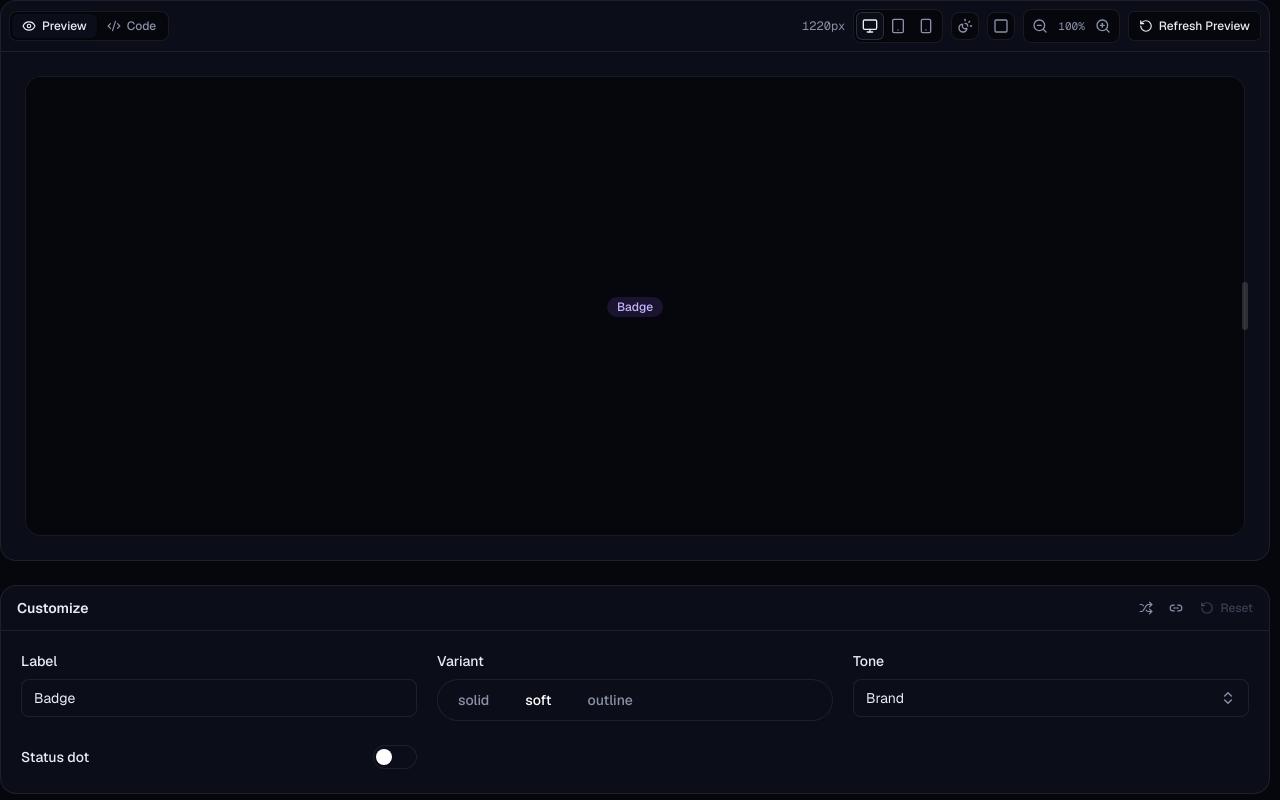
Scenario: ComponentPlayground — stage tools › zooms in preset steps and resets to 100%
Expected: the button "100%" is shown, x1=1054 y1=18 x2=1089 y2=34
What coordinates should you click on to do the following:
click the button named "Zoom in"
I would click on:
 (1103, 26)
Its box is x1=1089 y1=12 x2=1117 y2=40.
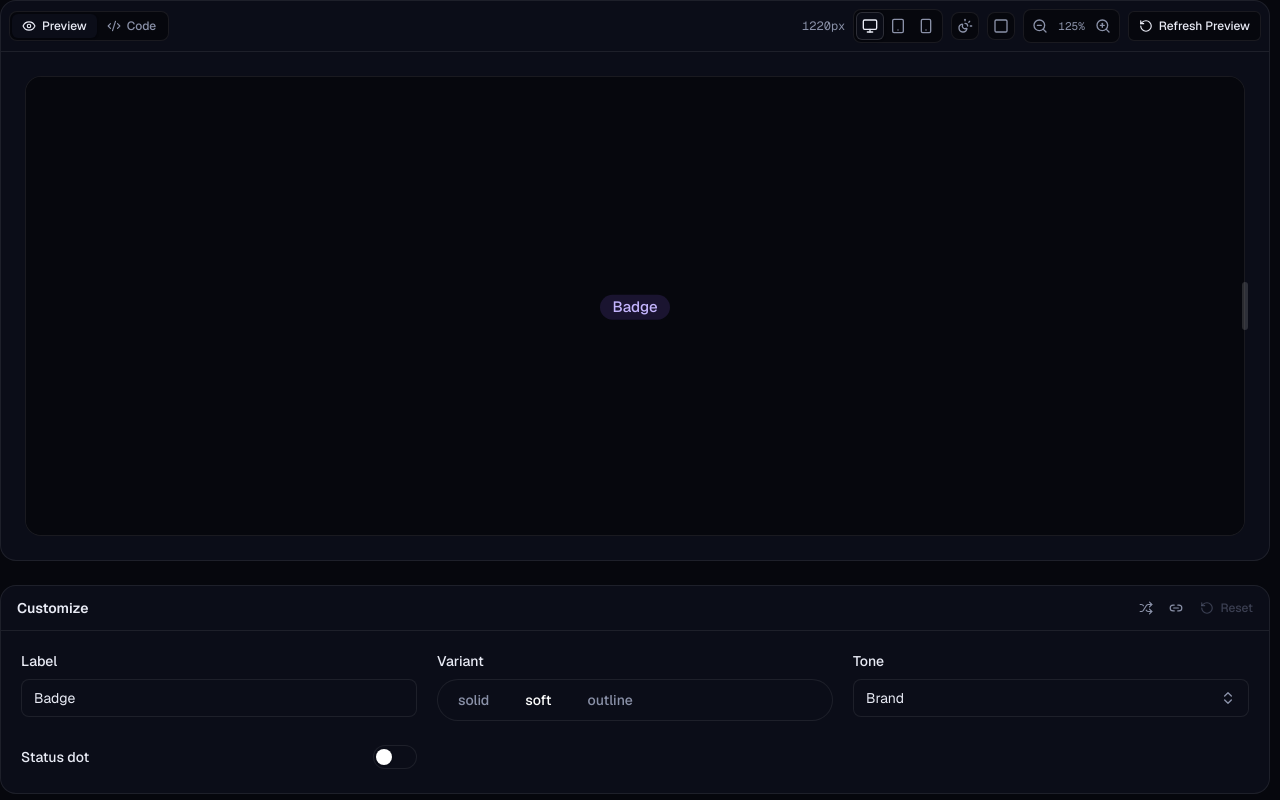
Now the button "125%" is shown
What coordinates should you click on to do the following:
click the button named "Reset zoom"
I would click on:
 (1072, 26)
Its box is x1=1054 y1=18 x2=1089 y2=34.
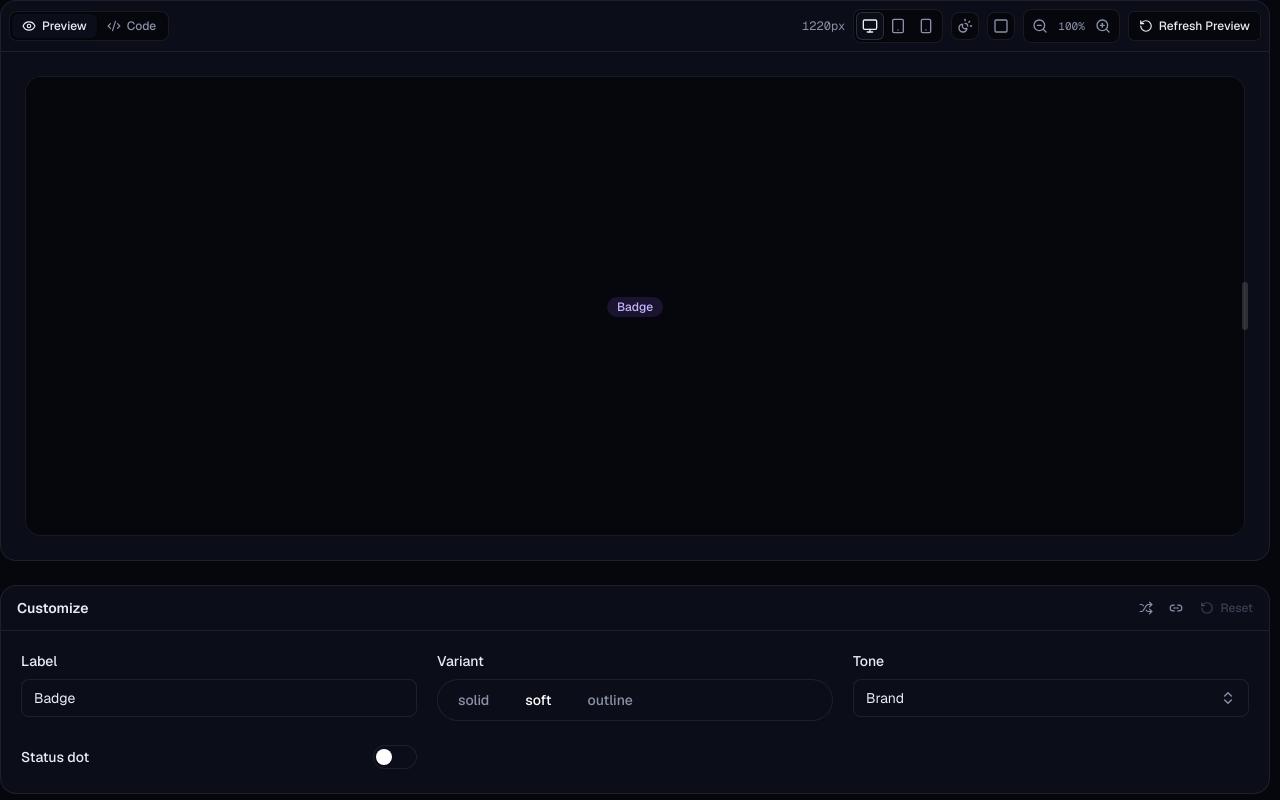
Now the button "100%" is shown, box x1=1054 y1=18 x2=1089 y2=34
